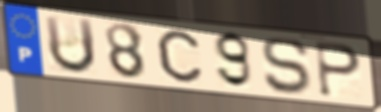8: (103, 21, 148, 81)
9: (211, 30, 255, 91)
C: (155, 27, 205, 84)
P: (313, 39, 364, 100)
S: (259, 37, 311, 96)
U: (42, 13, 99, 76)
